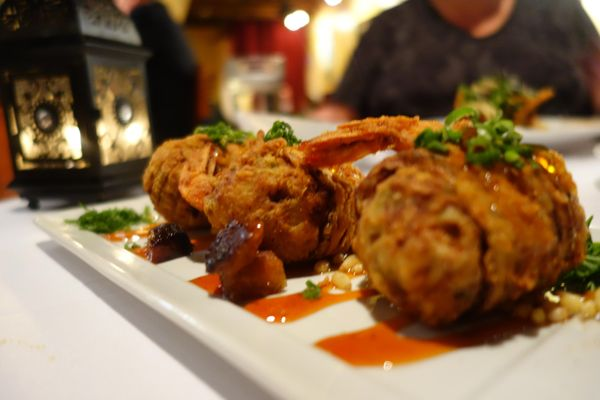burger: (127, 0, 198, 147)
